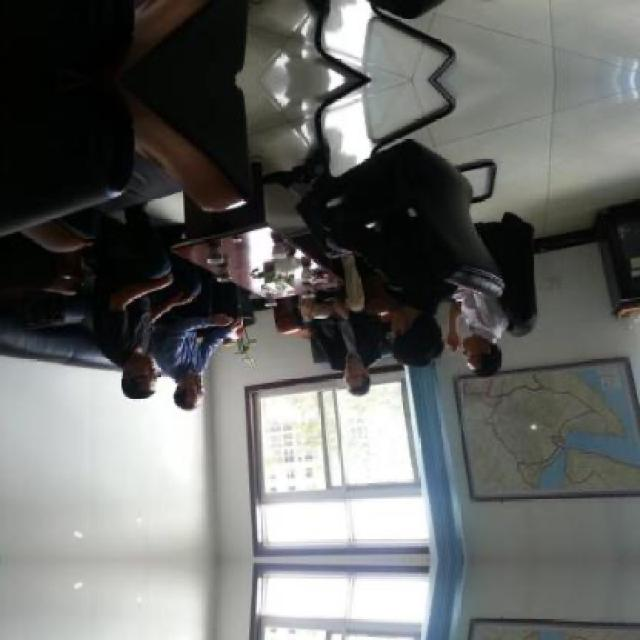sin casco: (329, 295, 454, 374), (441, 317, 527, 384), (148, 356, 222, 416), (104, 332, 158, 408), (322, 355, 366, 397)
